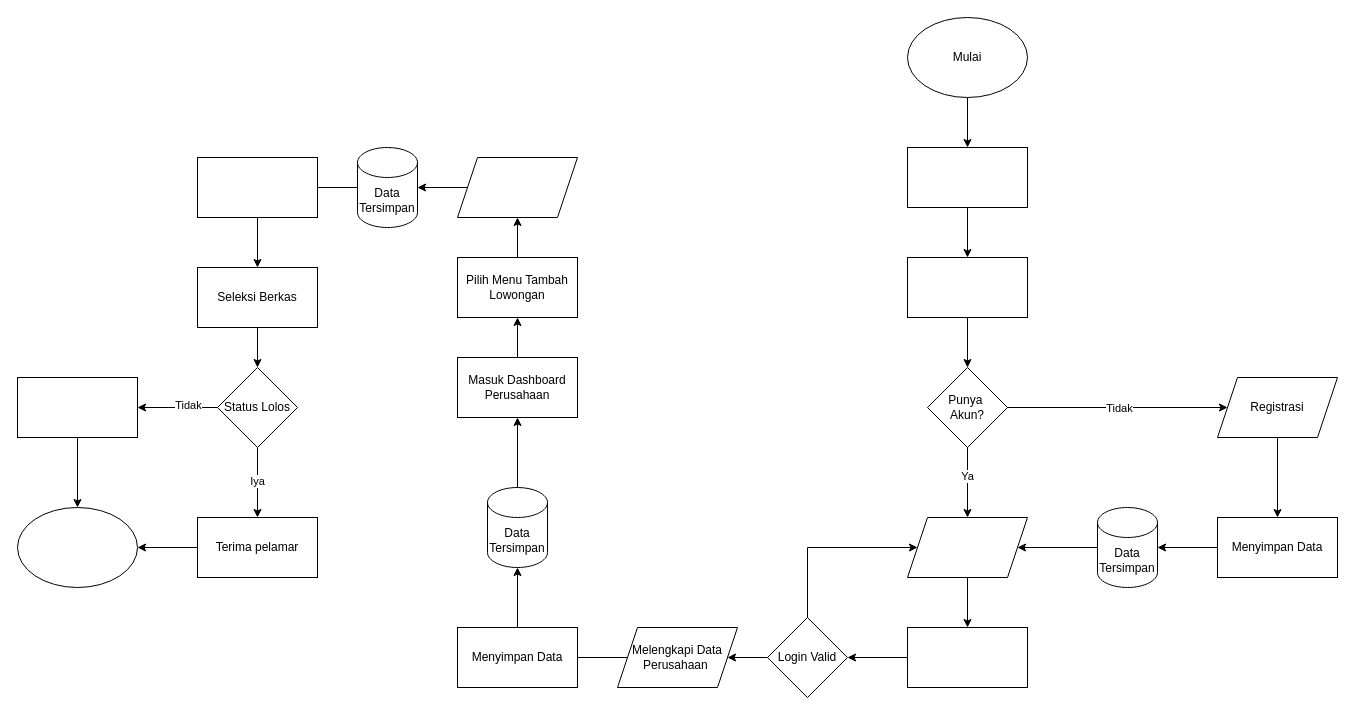
The diagram is 1355 pixels wide and 715 high, and some of its shapes have lost their labels. Each missing label, with the centre of its shape:
Halaman Utama: [967,177]
Input Detail Lowongan: [517,187]
Login: [967,547]
Melihat Lamaran: [257,187]
Memvalidasi Login: [967,657]
Selesai: [77,547]
Tekan Tombol Untuk Perusahaan: [967,287]
Tolak Pelamar: [77,407]
